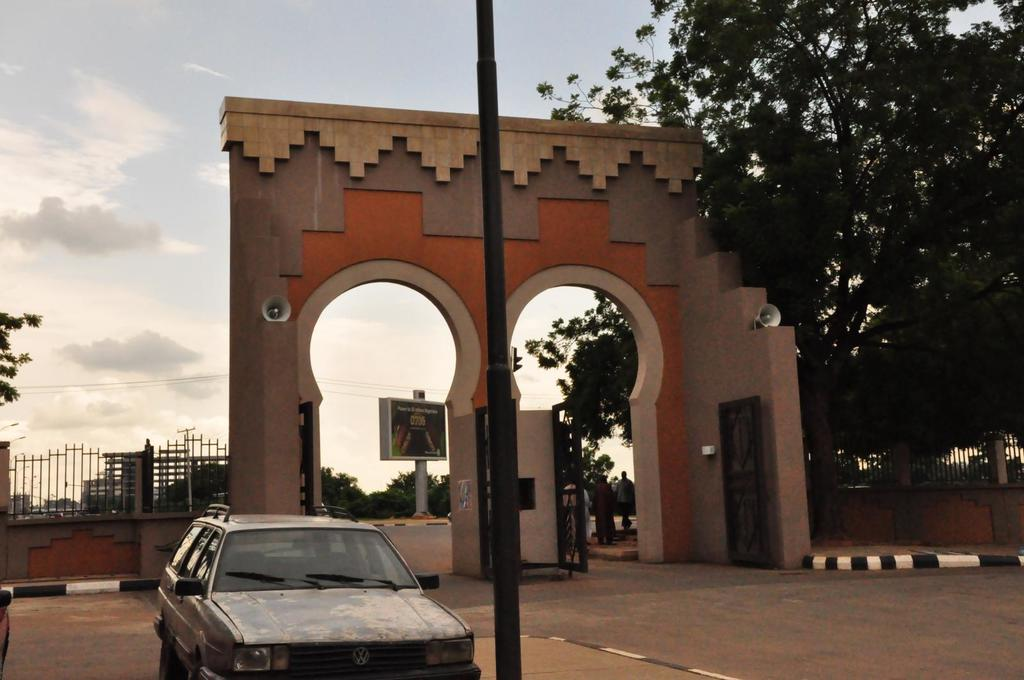Car: (149, 499, 482, 679)
